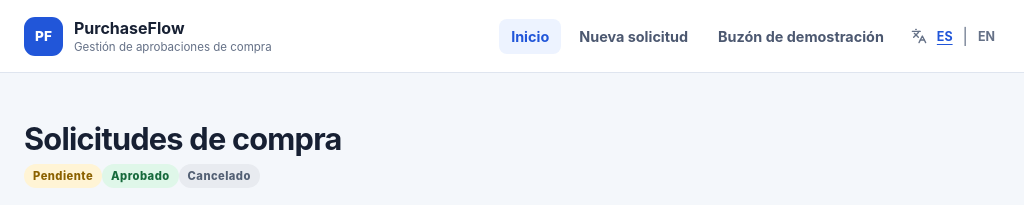
Test: language system › defaults to Spanish and switches the complete visible shell to English and back
Expected: the heading "Solicitudes de compra" is shown, [24,120,342,157]
Expected: the link "Nueva solicitud" is shown, [579,28,688,44]
Click the button with aria-label "Inglés" at [986, 36], box [973,24,1000,48]
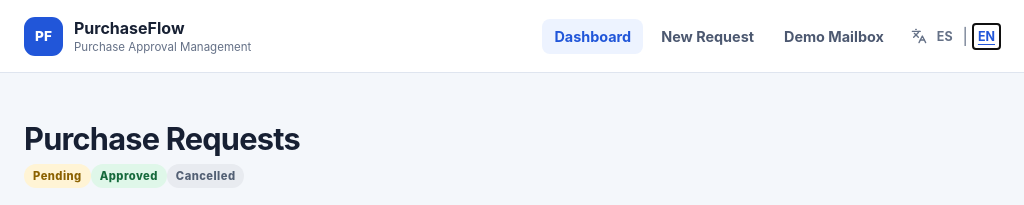
Expected: the text "Pending" is shown, [24,164,91,188]
Now the heading "Purchase Requests" is shown, box [24,120,300,157]
Now the text "Approved" is shown, box [91,164,167,188]
Click the button with aria-label "Spanish" at [945, 36], box [932,24,958,48]
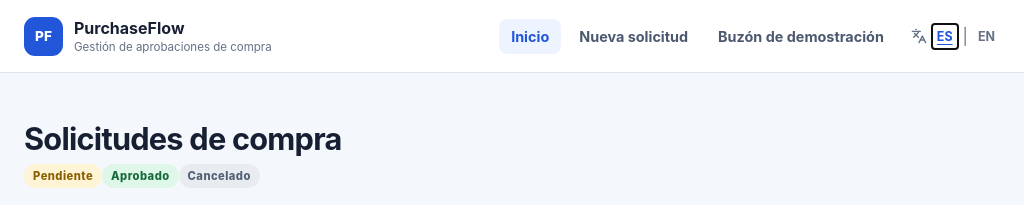
Now the heading "Solicitudes de compra" is shown, box [24,120,342,157]
